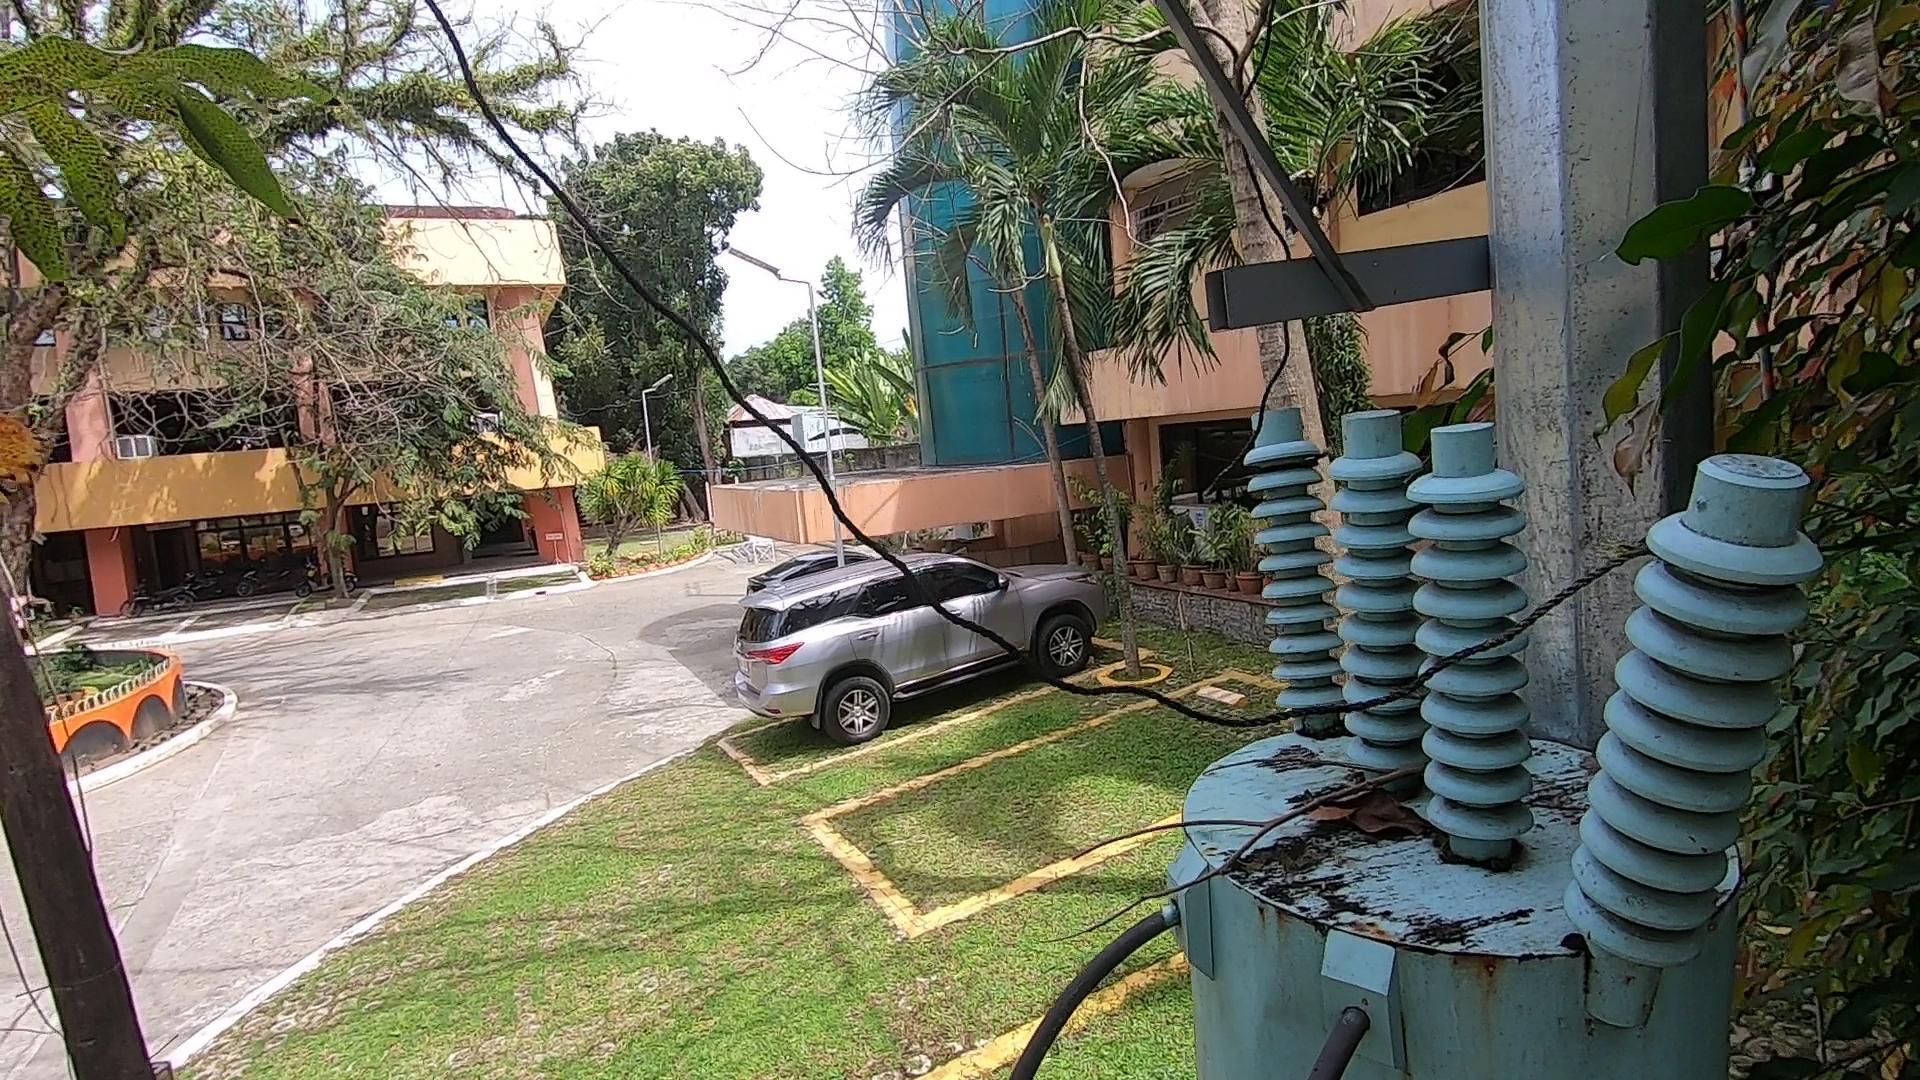leaf: (1276, 785, 1435, 860), (1290, 716, 1360, 752)
tree branch: (1001, 764, 1449, 971)
